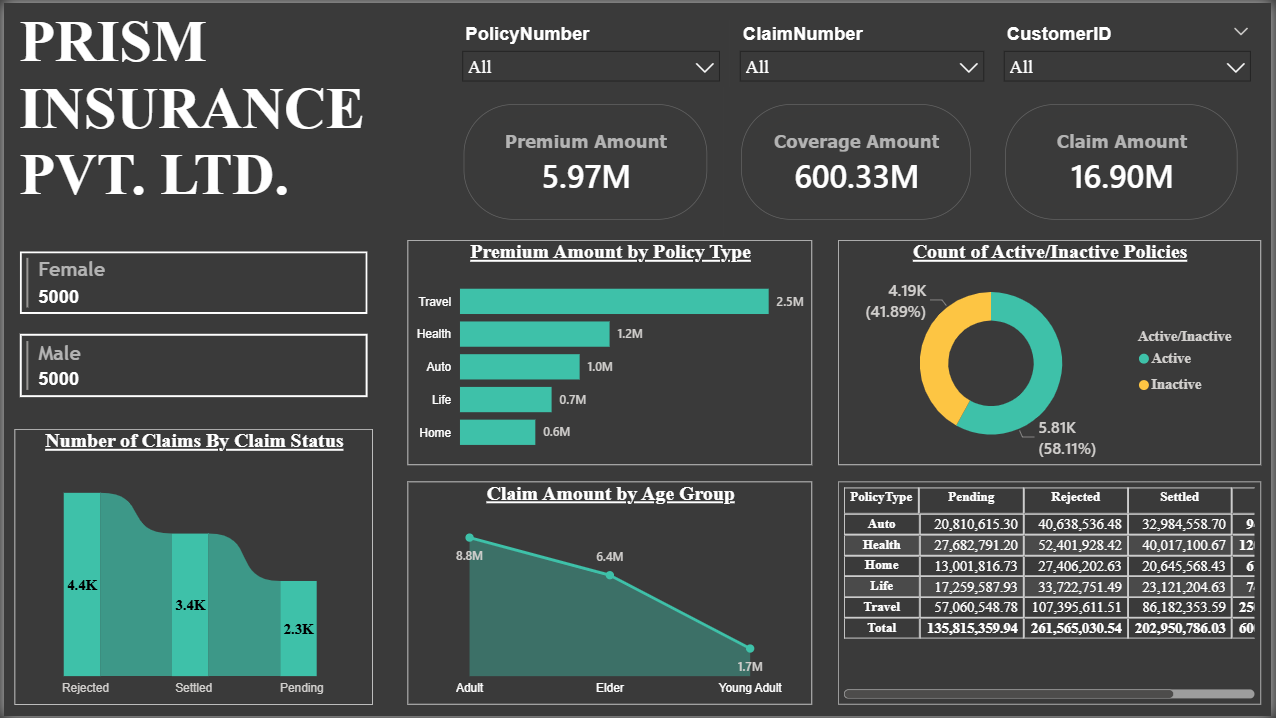

This screenshot's page, from the dashboard's own definition file:
{"tool":"powerbi","page":{"name":"Insurance Business Overview","canvas":[1280,720],"ordinal":0},"visuals":[{"type":"slicer","fields":{"Values":["InsuranceData.PolicyNumber"]},"box":[452.7,15.1,280.1,83.3],"z":0},{"type":"slicer","fields":{"Values":["InsuranceData.ClaimNumber"]},"box":[732.9,15.1,266.5,83.3],"z":1000},{"type":"slicer","fields":{"Values":["InsuranceData.CustomerID"]},"box":[999.4,15.1,269.5,83.3],"z":2000},{"type":"textbox","box":[10.6,0,361.9,225.6],"z":3000},{"type":"cardVisual","fields":{"Data":["Sum(InsuranceData.PremiumAmount)"]},"box":[446.7,84.3,280.1,151.4],"z":4000},{"type":"cardVisual","fields":{"Data":["Sum(InsuranceData.CoverageAmount)"]},"box":[726.8,84.3,266.5,151.4],"z":5000},{"type":"cardVisual","fields":{"Data":["Sum(InsuranceData.ClaimAmount)"]},"box":[993.3,84.3,269.5,151.4],"z":6000},{"type":"multiRowCard","fields":{"Values":["InsuranceData.Gender","CountNonNull(InsuranceData.Gender)"]},"box":[10.6,245.3,361.9,184.7],"z":7000},{"type":"ribbonChart","title":"Number of Claims By Claim Status","fields":{"Category":["InsuranceData.ClaimStatus"],"Y":["CountNonNull(InsuranceData.ClaimStatus)"]},"box":[10.6,430,361.9,278.6],"z":8000},{"type":"barChart","title":"Premium Amount by Policy Type","fields":{"Category":["InsuranceData.PolicyType"],"Y":["Sum(InsuranceData.PremiumAmount)"]},"box":[407.3,239.2,408.8,227.1],"z":9000},{"type":"lineChart","fields":{"Y":["Sum(InsuranceData.ClaimAmount)"],"Category":["InsuranceData.Age Group"]},"box":[407.3,483,408.8,225.6],"z":10000},{"type":"donutChart","title":"Count of Active/Inactive Policies","fields":{"Y":["CountNonNull(InsuranceData.Active/Inactive)"],"Category":["InsuranceData.Active/Inactive"]},"box":[841.9,239.2,427,227.1],"z":11000},{"type":"pivotTable","fields":{"Rows":["InsuranceData.PolicyType"],"Columns":["InsuranceData.ClaimStatus"],"Values":["Sum(InsuranceData.CoverageAmount)"]},"box":[841.9,483,427,225.6],"z":12000}]}

Visuals, with their boxes in screenshot pixels (x1, y1, x2, y2), scaled from the page's 1280x720 canvas onto the 1276x718 screenshot:
slicer - InsuranceData.PolicyNumber: bbox=(451, 15, 731, 98)
slicer - InsuranceData.ClaimNumber: bbox=(731, 15, 996, 98)
slicer - InsuranceData.CustomerID: bbox=(996, 15, 1265, 98)
textbox: bbox=(11, 0, 371, 225)
cardVisual - Sum(InsuranceData.PremiumAmount): bbox=(445, 84, 725, 235)
cardVisual - Sum(InsuranceData.CoverageAmount): bbox=(725, 84, 990, 235)
cardVisual - Sum(InsuranceData.ClaimAmount): bbox=(990, 84, 1259, 235)
multiRowCard - InsuranceData.Gender x CountNonNull(InsuranceData.Gender): bbox=(11, 245, 371, 429)
"Number of Claims By Claim Status" ribbonChart: bbox=(11, 429, 371, 707)
"Premium Amount by Policy Type" barChart: bbox=(406, 239, 814, 465)
lineChart - Sum(InsuranceData.ClaimAmount) x InsuranceData.Age Group: bbox=(406, 482, 814, 707)
"Count of Active/Inactive Policies" donutChart: bbox=(839, 239, 1265, 465)
pivotTable - InsuranceData.PolicyType x InsuranceData.ClaimStatus: bbox=(839, 482, 1265, 707)
